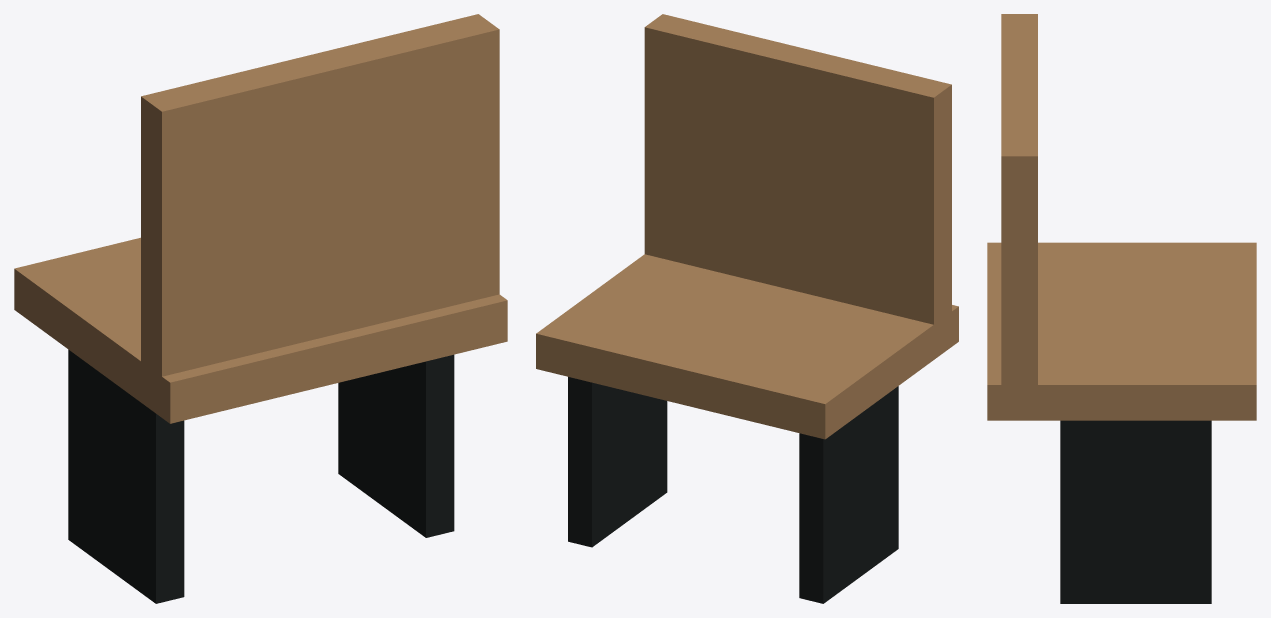
Rendered from good.glb.
3 renders of one model, left to right at view 1: azimuth 30°, elevation 25°; view 2: azimuth 150°, elevation 25°; view 3: azimuth 270°, elevation 25°, orthographic. The views are drawn at different scales.
Parts seen in each view (by area): view 1: starbucksChair_1, starbucksChair_0, starbucksChair_2, starbucksChair_3; view 2: starbucksChair_1, starbucksChair_0, starbucksChair_2, starbucksChair_3; view 3: starbucksChair_0, starbucksChair_3, starbucksChair_1.
Boxes of the visible parts, left/top/right/bottom form: starbucksChair_1: left=141, top=14, right=499, bottom=386; starbucksChair_0: left=14, top=237, right=507, bottom=423; starbucksChair_2: left=68, top=349, right=184, bottom=603; starbucksChair_3: left=338, top=354, right=454, bottom=537; starbucksChair_1: left=644, top=14, right=951, bottom=334; starbucksChair_0: left=536, top=254, right=958, bottom=439; starbucksChair_2: left=799, top=386, right=898, bottom=603; starbucksChair_3: left=568, top=377, right=667, bottom=547; starbucksChair_0: left=987, top=242, right=1256, bottom=420; starbucksChair_3: left=1060, top=420, right=1211, bottom=603; starbucksChair_1: left=1001, top=14, right=1037, bottom=395.
Size of the model in its own units: 0.6 by 0.89 by 0.48.
